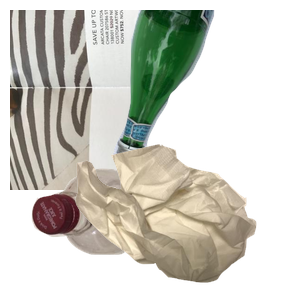glass: (109, 10, 300, 167)
paper: (10, 10, 250, 190)
plastic: (29, 166, 183, 300)
trash: (73, 142, 300, 300)
